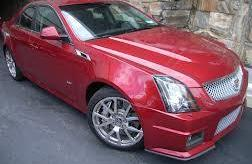front_view: (143, 49, 250, 164)
headlight: (153, 73, 201, 115)
side_glass: (19, 4, 71, 43)
